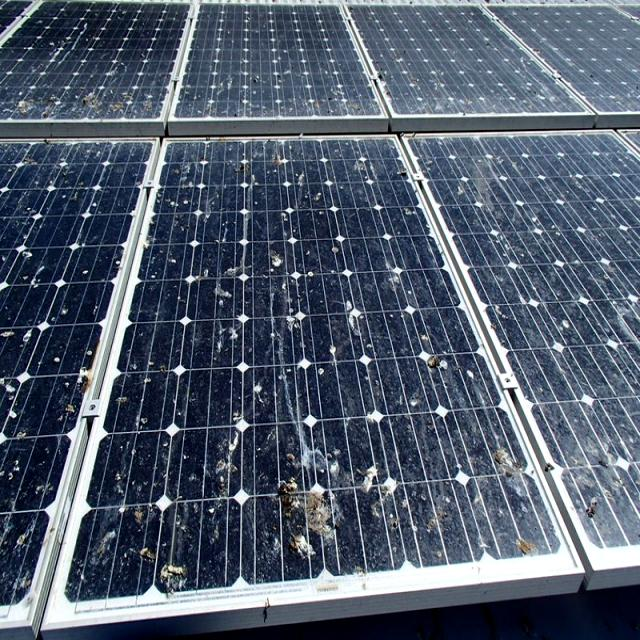bird: (266, 474, 350, 580), (202, 423, 249, 490), (161, 527, 199, 603), (482, 430, 534, 484), (356, 452, 407, 506), (566, 478, 618, 530), (208, 241, 238, 307), (0, 309, 28, 370), (421, 340, 468, 374)
